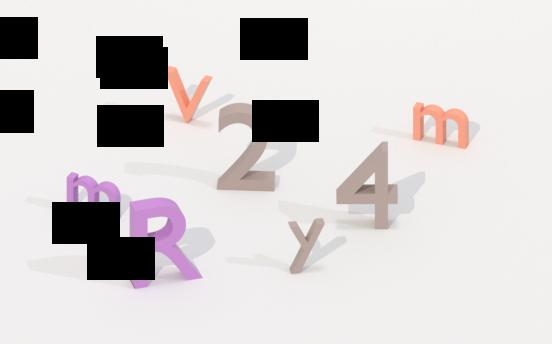2: (216, 100, 275, 195)
4: (333, 138, 400, 233)
R-hoa: (124, 195, 204, 293)
Y: (288, 216, 326, 278)
m: (63, 167, 123, 224), (412, 99, 470, 153)
v: (163, 61, 216, 126)
